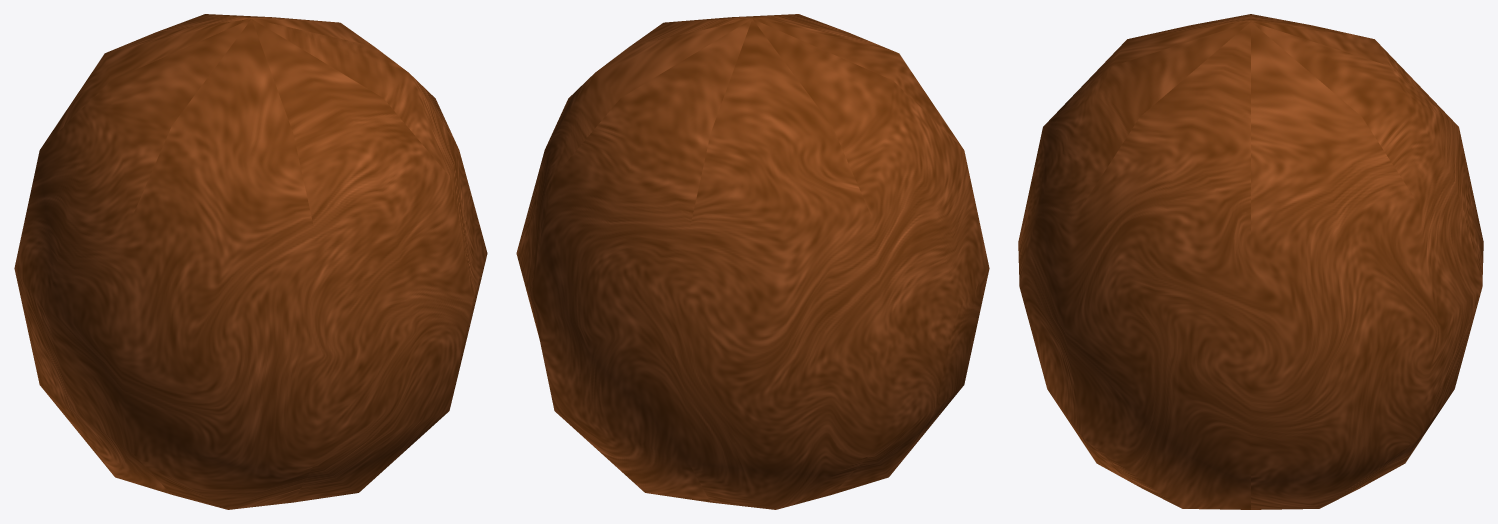
The model's file is Planet10.fbx.
The picture shows the model from 3 angles, left to right: view 1: azimuth 30°, elevation 25°; view 2: azimuth 150°, elevation 25°; view 3: azimuth 270°, elevation 25°; orthographic projection.
Parts seen in each view (by area): view 1: pasted__pSphere3; view 2: pasted__pSphere3; view 3: pasted__pSphere3.
Boxes of the visible parts, x1,y1,x2,y2 form: pasted__pSphere3: [14, 14, 487, 509]; pasted__pSphere3: [516, 14, 989, 509]; pasted__pSphere3: [1018, 14, 1483, 509].
Size of the model in its own units: 1.56 by 1.76 by 1.53.
Materials: 1 (1 with a texture image).
